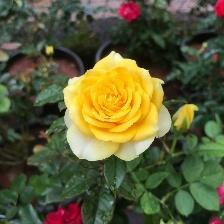rose: (65, 51, 174, 165)
